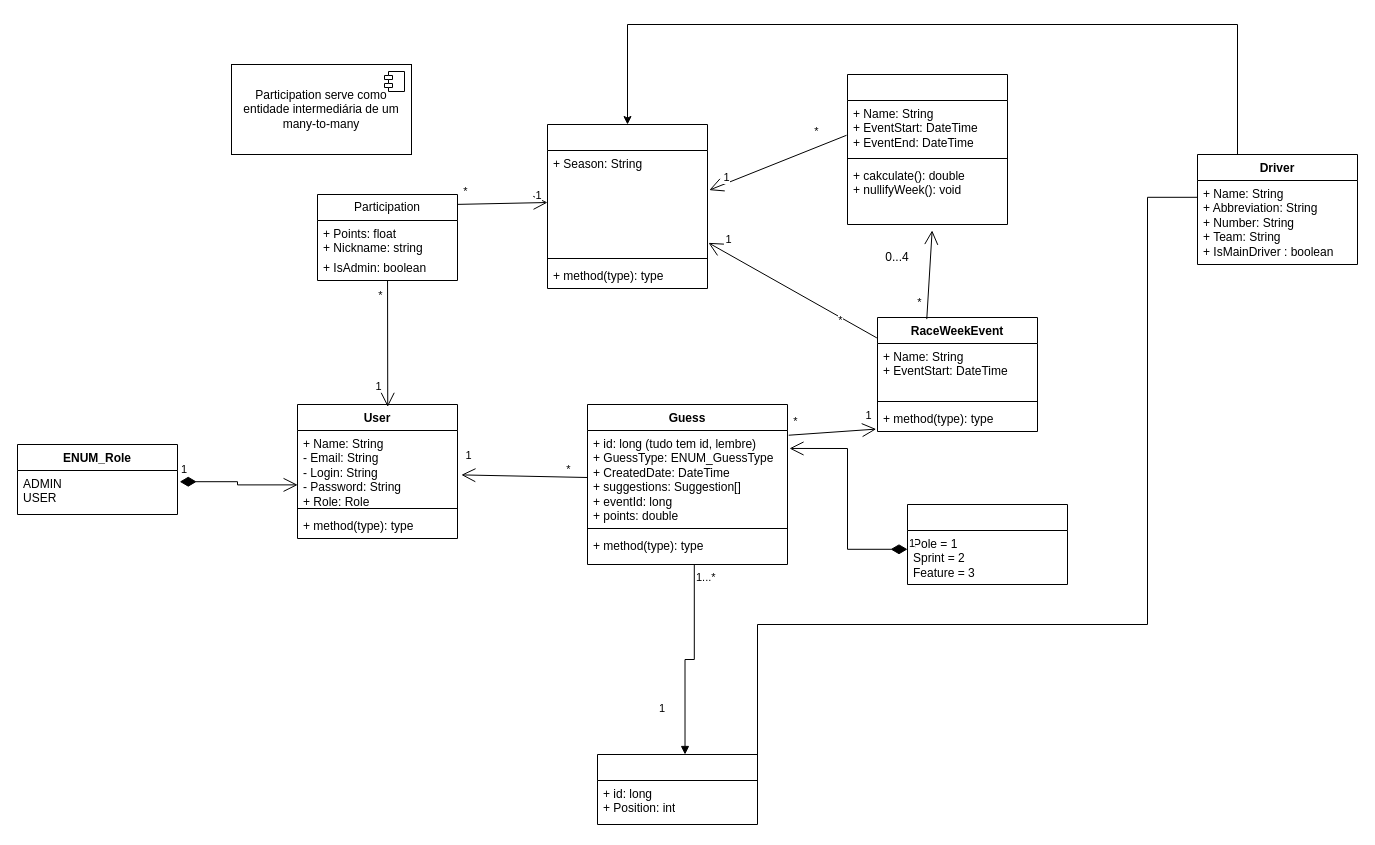
The diagram is 1375 pixels wide and 845 high, and some of its shapes have lost their labels. Here are the shapes that lost their labels. From the top down, the box of each, then its label:
(846, 74, 1008, 224): RaceWeek
(546, 124, 708, 288): Championship
(906, 504, 1068, 584): ENUM_GuessType
(596, 754, 758, 824): Suggestion
